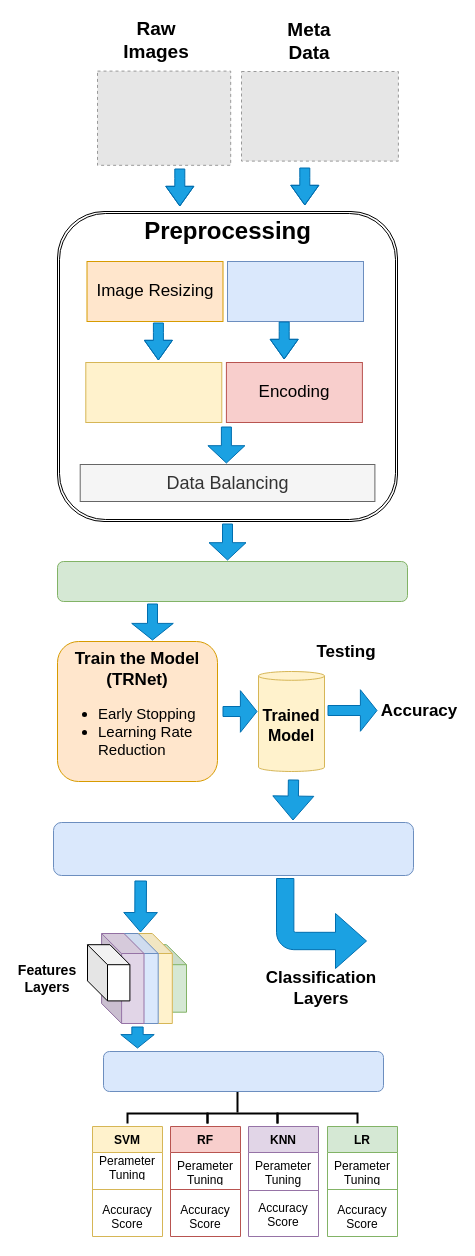
This 475x1256 diagram has some shape labels left out. Grey dashed boxes stand in for pictures. The centre of each missing label's shape, as x and y in pixels:
Image Normalization: the point at 153,392
Machine Learning Classifires: the point at 243,1071
Meta Data Normalization: the point at 295,291
Separate Features and Classification Layer: the point at 233,849
Train/Validation ,Test data spliting: the point at 232,581
